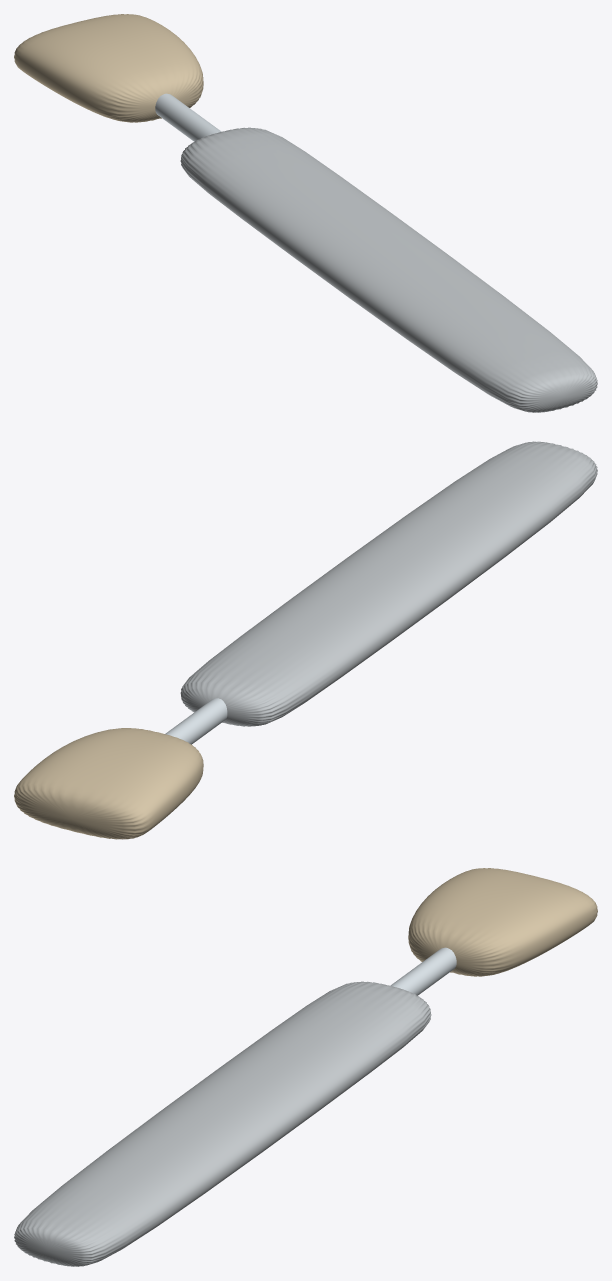
The model's file is shade_tab.glb.
3 views of the same model, one above another, from view 1: azimuth 30°, elevation 25°; view 2: azimuth 150°, elevation 25°; view 3: azimuth 330°, elevation 25° (orthographic).
Visible parts, largest first — view 1: Flat shade-guide handle, Shade tab crown, Cone; view 2: Flat shade-guide handle, Shade tab crown, Cone; view 3: Flat shade-guide handle, Shade tab crown, Cone.
Part boxes in pixels (x1,y1,x2,y2): Flat shade-guide handle: (180, 127, 597, 412); Shade tab crown: (14, 14, 203, 122); Cone: (155, 93, 221, 141); Flat shade-guide handle: (180, 441, 597, 726); Shade tab crown: (14, 728, 203, 839); Cone: (165, 698, 227, 744); Flat shade-guide handle: (14, 981, 431, 1266); Shade tab crown: (408, 868, 597, 976); Cone: (390, 947, 456, 995).
Size of the model in its own units: 8.94 by 3.19 by 56.45.
